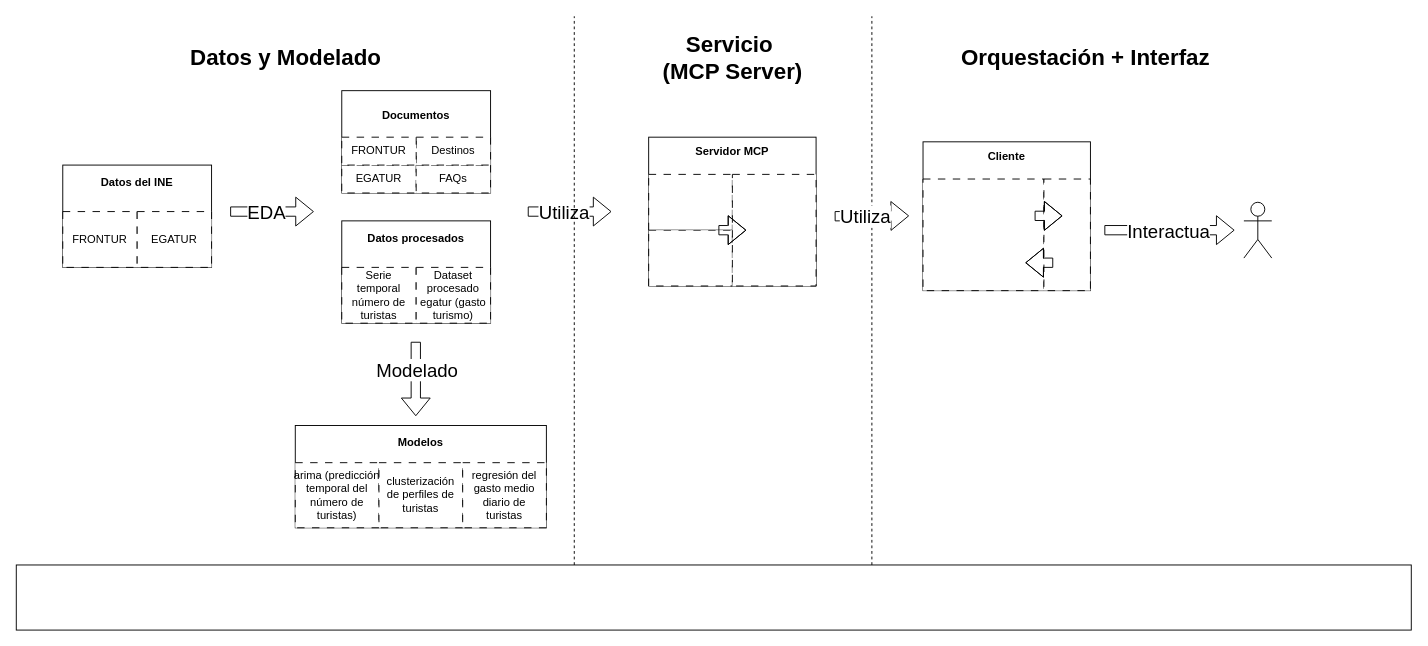
This 1428x646 diagram has some shape labels left out. Each missing label, with the centre of its shape:
backend: the point at 983,234
Despliegue (Local / Docker / Azure): the point at 713,597
front: the point at 1066,234
predictor: the point at 690,201
RAG: the point at 690,257
report: the point at 773,229
Usuario: the point at 1257,229
